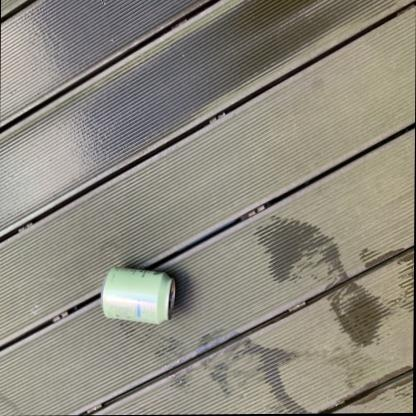trash: (102, 267, 174, 323)
